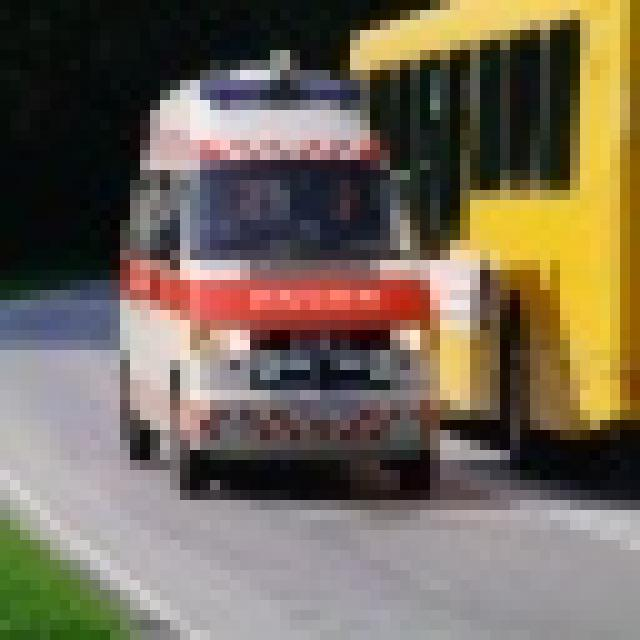Ambulance: (110, 40, 440, 490)
